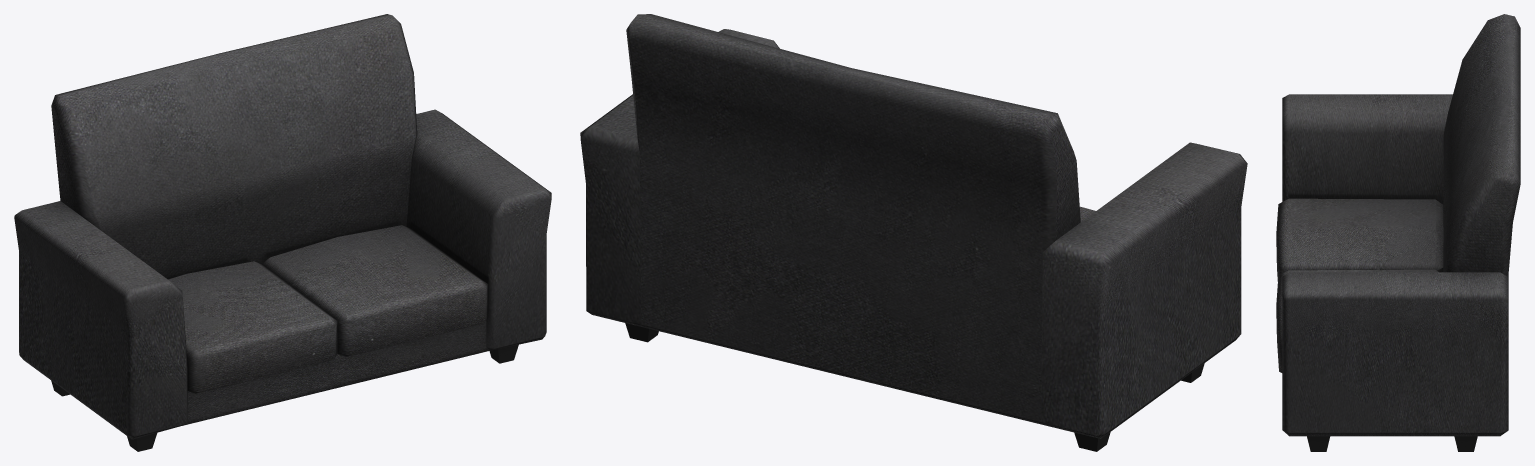
File: Sun_0506_2_seat_sofa.fbx
3 renders of one model, left to right at view 1: azimuth 30°, elevation 25°; view 2: azimuth 150°, elevation 25°; view 3: azimuth 270°, elevation 25°, orthographic. The views are drawn at different scales.
Visible parts, largest first — view 1: Sun_0506_2_seat_sofa; view 2: Sun_0506_2_seat_sofa; view 3: Sun_0506_2_seat_sofa.
Boxes of the visible parts, box(x1,y1,x2,y2) form: Sun_0506_2_seat_sofa: box(14, 14, 551, 451); Sun_0506_2_seat_sofa: box(580, 14, 1247, 451); Sun_0506_2_seat_sofa: box(1276, 14, 1520, 451).
Size of the model in its own units: 144 by 88.75 by 72.87.
